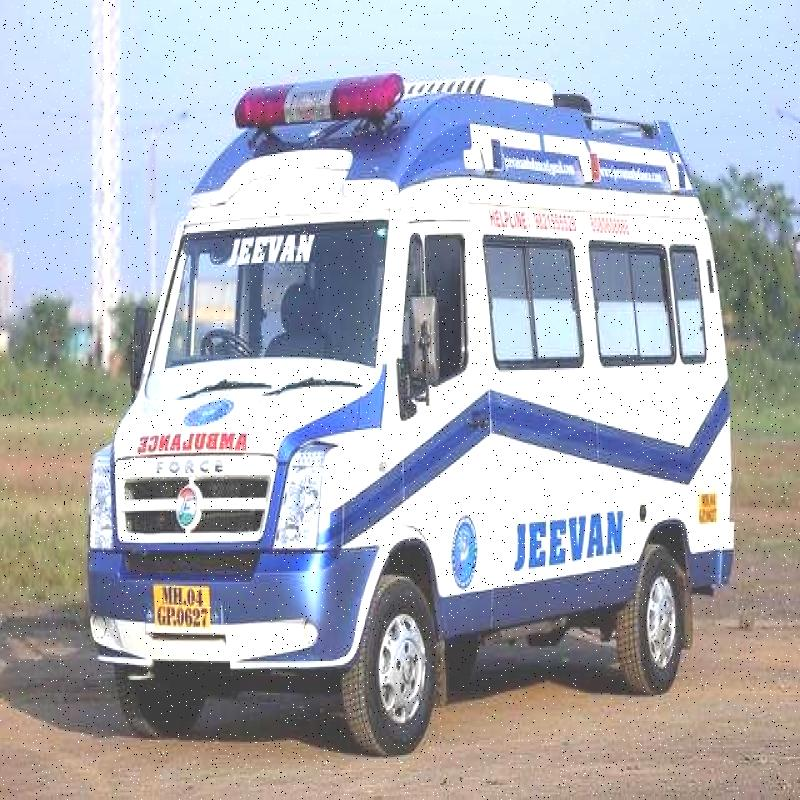AmbulanceSiren: (221, 48, 408, 152)
